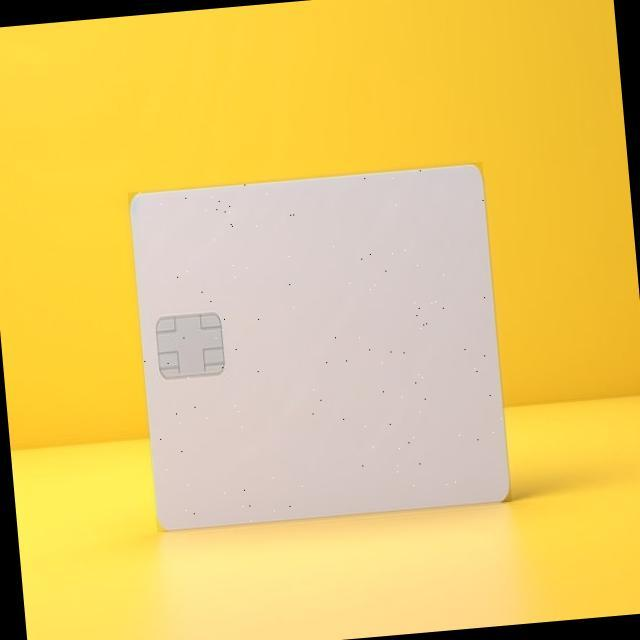payment_card: (129, 162, 511, 531)
